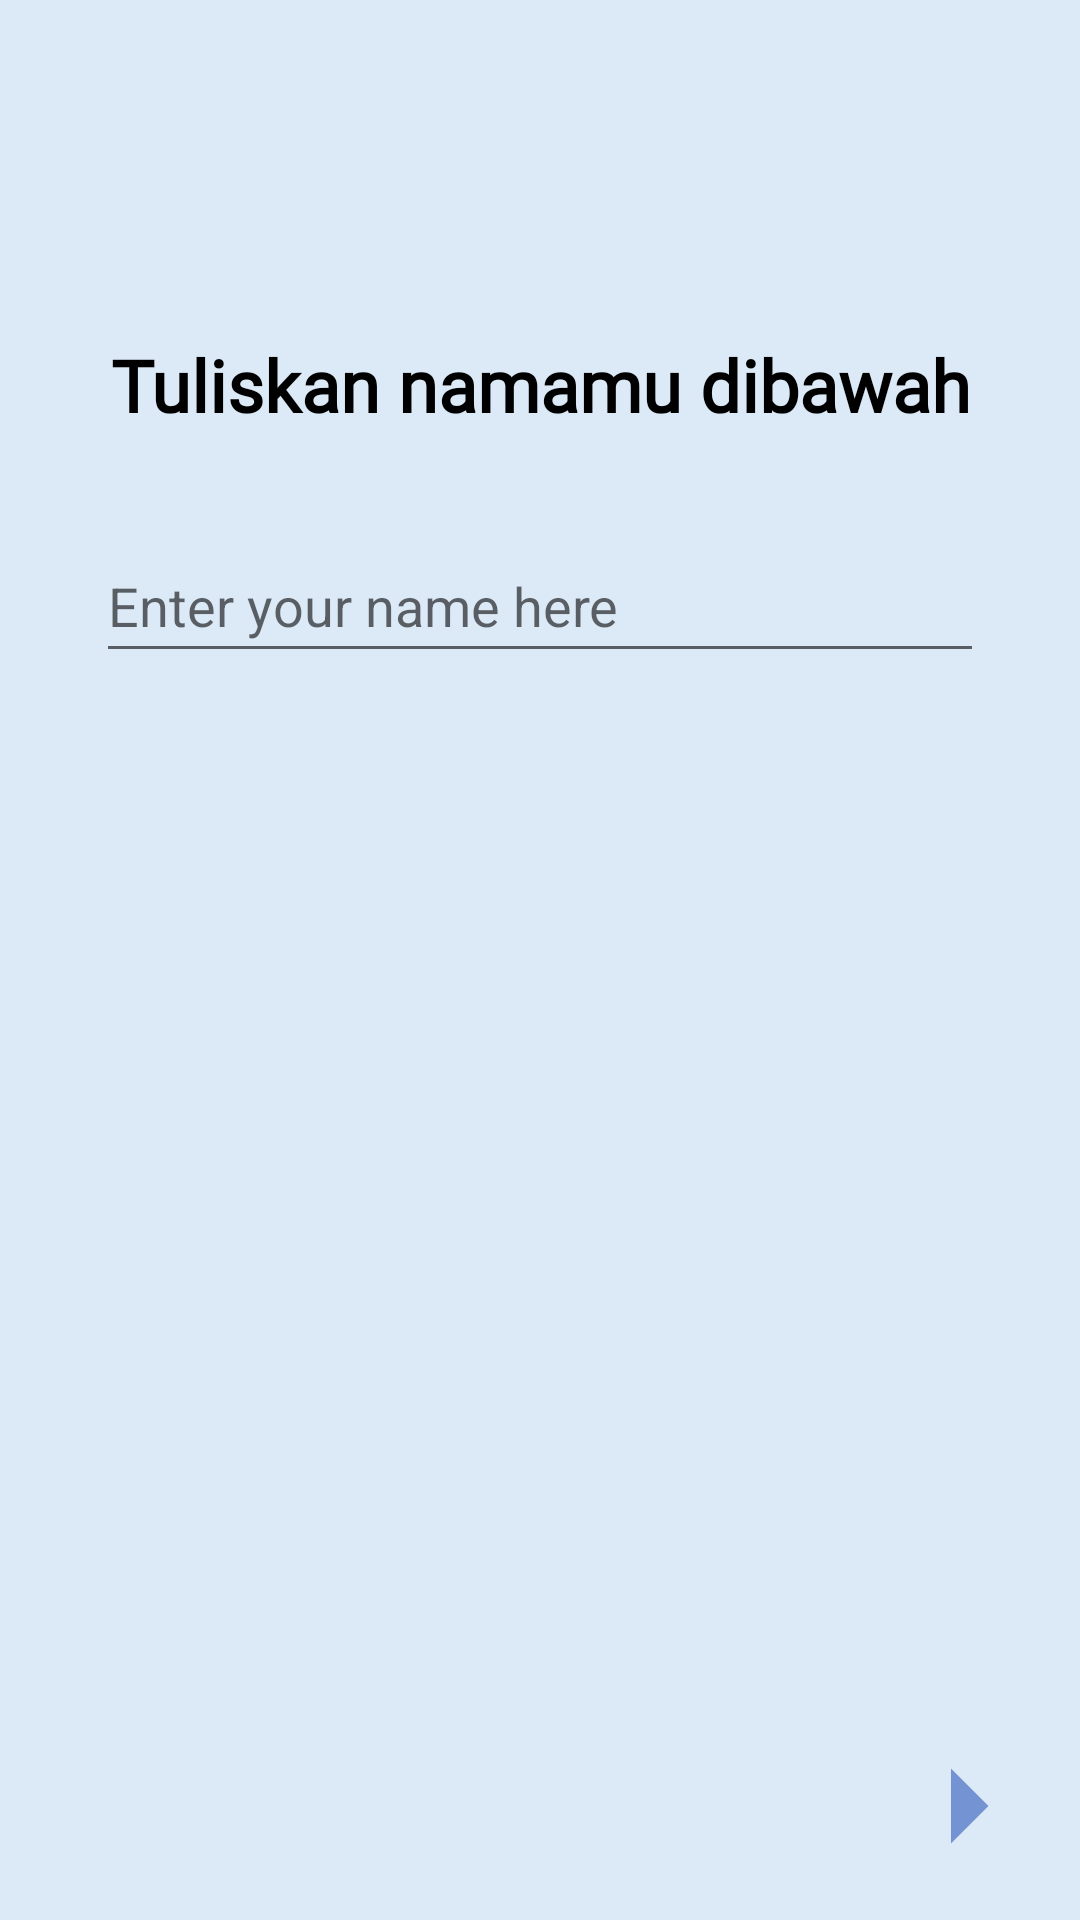

Where to tap for icons on this 1080 x 1920 app screen, as [x,y]:
Icon Next: [969,1806]
